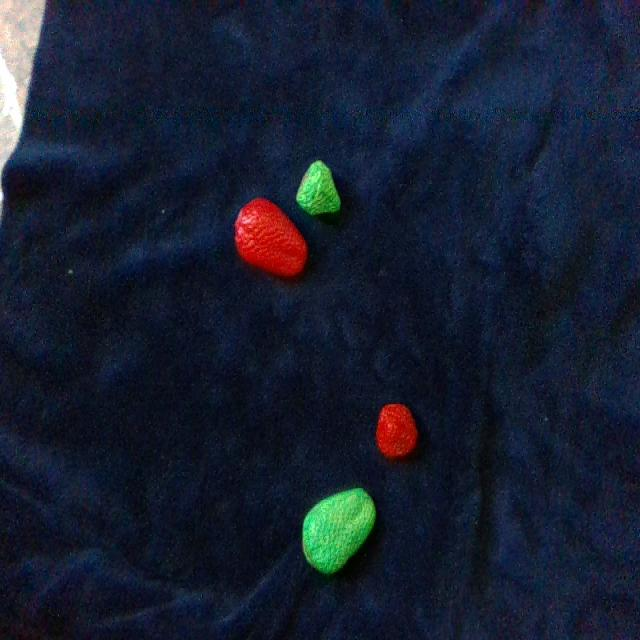chica_roja: (376, 404, 417, 457)
grande_roja: (235, 199, 307, 276)
verde: (302, 488, 375, 573), (296, 160, 340, 213)
